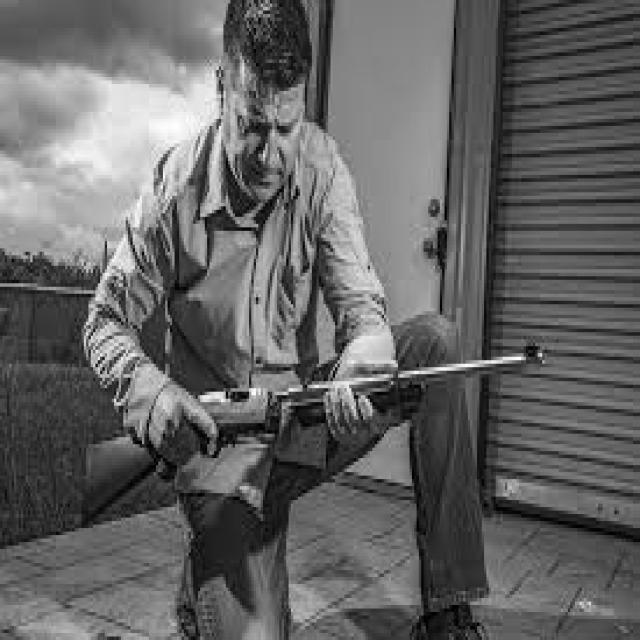rifle: (71, 345, 548, 531)
